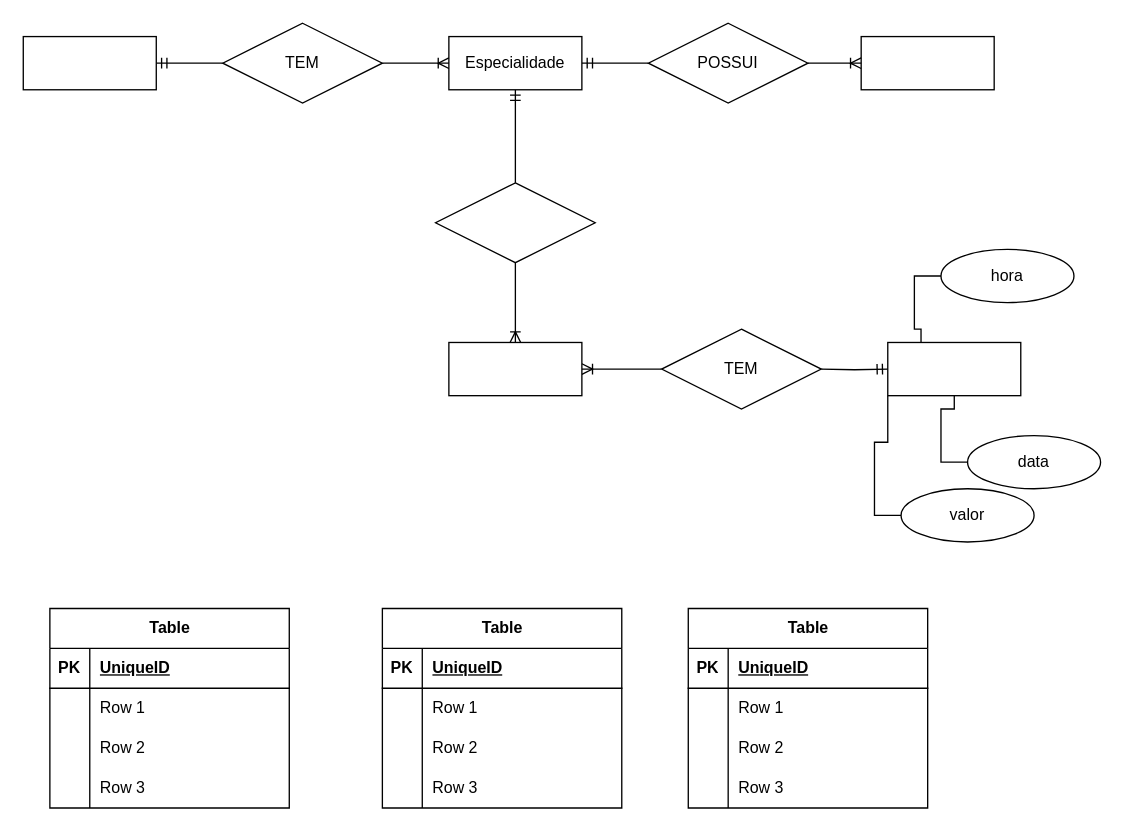
The diagram is 1124 pixels wide and 831 high, and some of its shapes have lost their labels. Here are the shapes that lost their labels. From the top down, the centre of each, then its label:
pixel 89 62: Hospital
pixel 927 62: Médico
pixel 514 222: ATENDE
pixel 515 368: Paciente
pixel 953 368: Consulta
